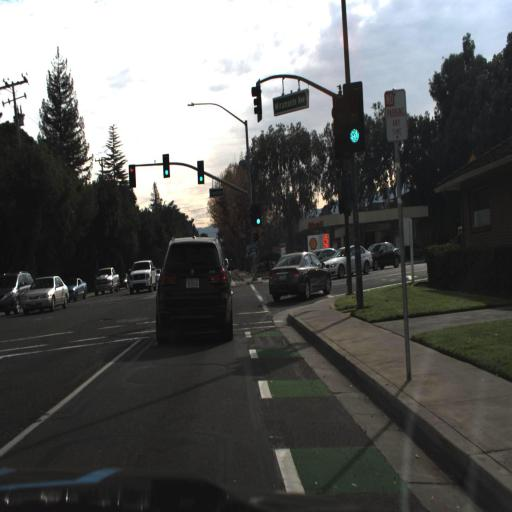car: (149, 230, 237, 352), (266, 245, 334, 304), (21, 272, 70, 315), (323, 241, 375, 276), (0, 269, 36, 319), (367, 241, 405, 273), (126, 257, 156, 297), (92, 265, 119, 299), (67, 274, 89, 304)
trafficLight: (127, 162, 140, 190)
trafficLight-Green: (340, 79, 363, 151), (162, 153, 170, 177), (197, 159, 203, 186), (255, 211, 261, 231)
